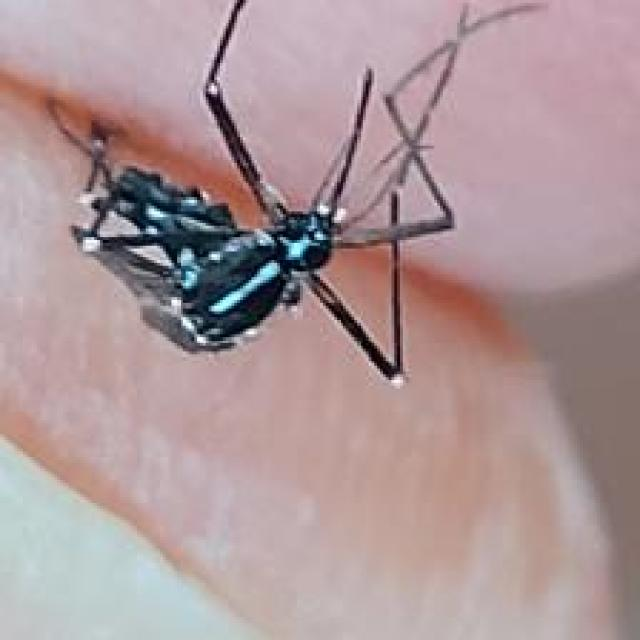Aedes albopictus: (42, 0, 548, 391)
